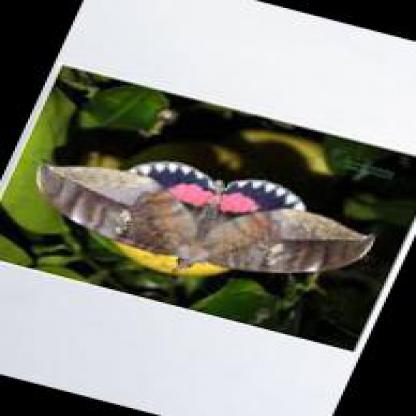fruit sucking moth: (32, 161, 377, 285)
